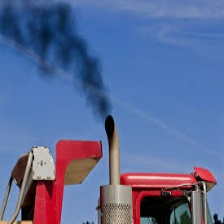smoke: (7, 2, 122, 112)
